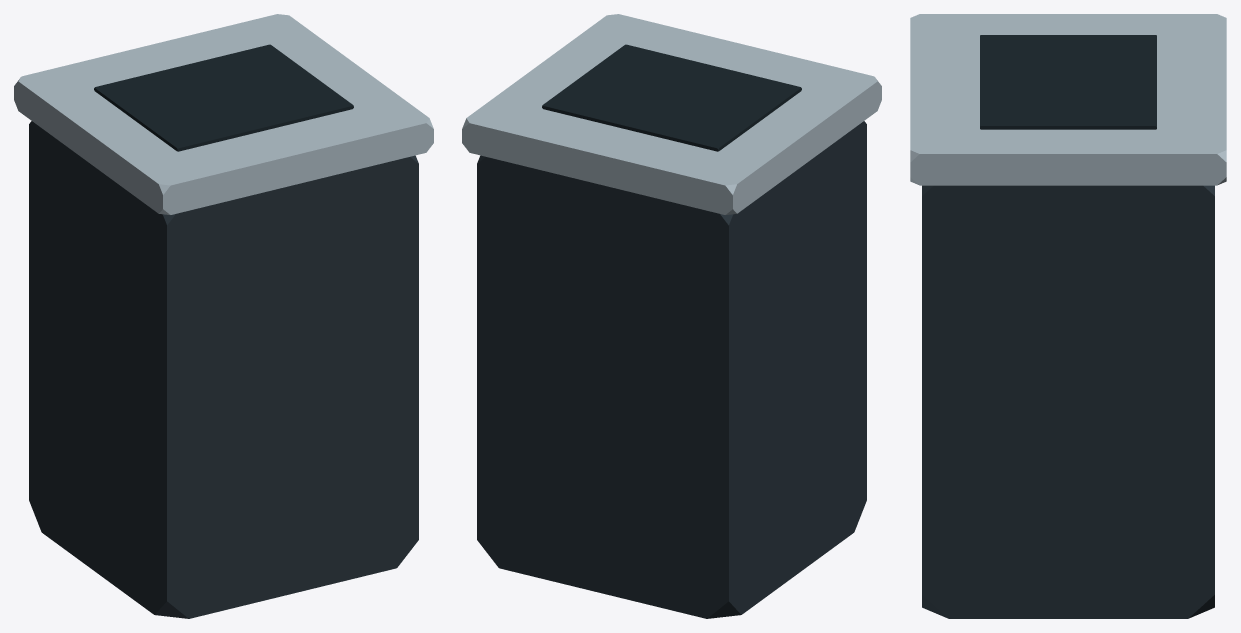
File: WasteBin.glb
The picture shows the model from 3 angles, left to right: view 1: azimuth 30°, elevation 25°; view 2: azimuth 150°, elevation 25°; view 3: azimuth 270°, elevation 25°; orthographic projection. The views are drawn at different scales.
Parts seen in each view (by area): view 1: WasteBin; view 2: WasteBin; view 3: WasteBin.
Boxes of the visible parts, <box> form: WasteBin: <box>14,14,433,618</box>; WasteBin: <box>462,14,881,618</box>; WasteBin: <box>910,14,1226,618</box>.
Bounding box in the file's own units: 0.43 × 0.6775 × 0.41.
